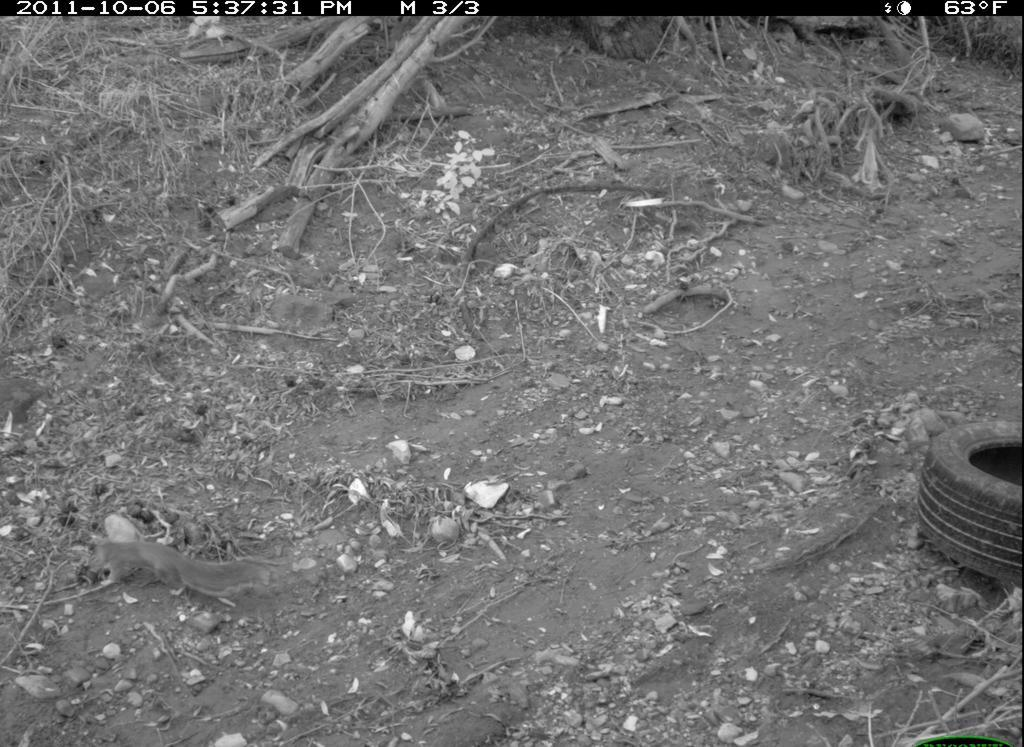squirrel: (82, 521, 283, 616)
